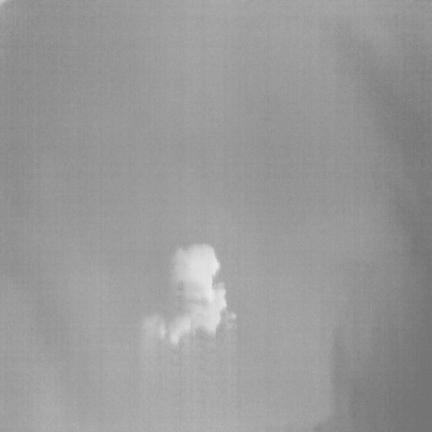flukeprints: (147, 244, 226, 344)
